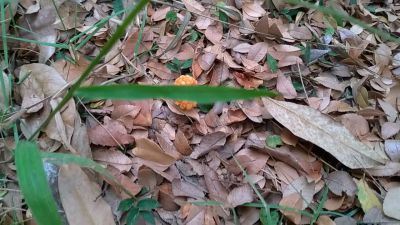eggs: (169, 73, 202, 112)
